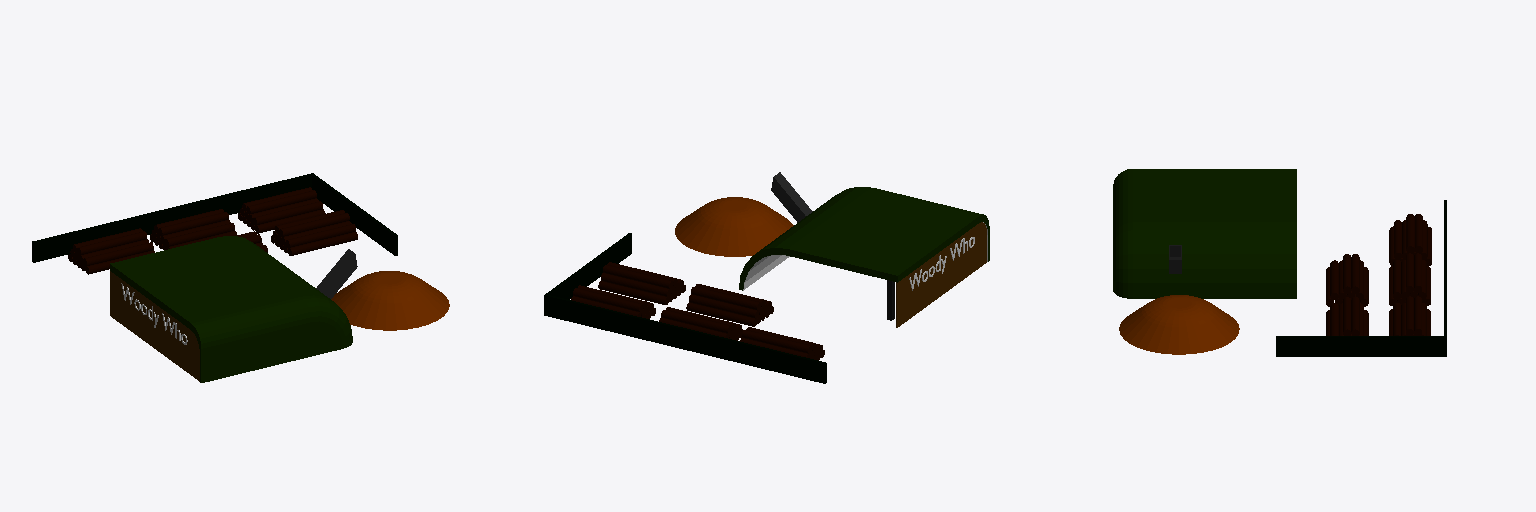
File: sawmill.obj
3 renders of one model, left to right at view 1: azimuth 30°, elevation 25°; view 2: azimuth 150°, elevation 25°; view 3: azimuth 270°, elevation 25°, orthographic.
Parts seen in each view (by area): view 1: Cube, Cylinder.003, Cube.001, Circle, Plane.001, Cube.003; view 2: Cube, Cylinder.003, Cube.001, Circle, Plane.001, Cube.003; view 3: Cube, Cylinder.003, Circle, Cube.001.
Part boxes in pixels (x1,y1,x2,y2): Cube: (110, 236, 352, 382); Cylinder.003: (68, 187, 357, 274); Cube.001: (32, 173, 397, 262); Circle: (331, 271, 449, 330); Plane.001: (110, 271, 199, 381); Cube.003: (316, 249, 357, 298); Cube: (739, 187, 989, 290); Cylinder.003: (571, 262, 824, 360); Cube.001: (544, 233, 826, 383); Circle: (675, 197, 793, 256); Plane.001: (896, 222, 986, 327); Cube.003: (771, 172, 812, 222); Cube: (1113, 169, 1296, 298); Cylinder.003: (1326, 214, 1431, 335); Circle: (1119, 295, 1239, 354); Cube.001: (1276, 200, 1446, 356).
Size of the model in its own units: 8.85 by 1.97 by 9.11.